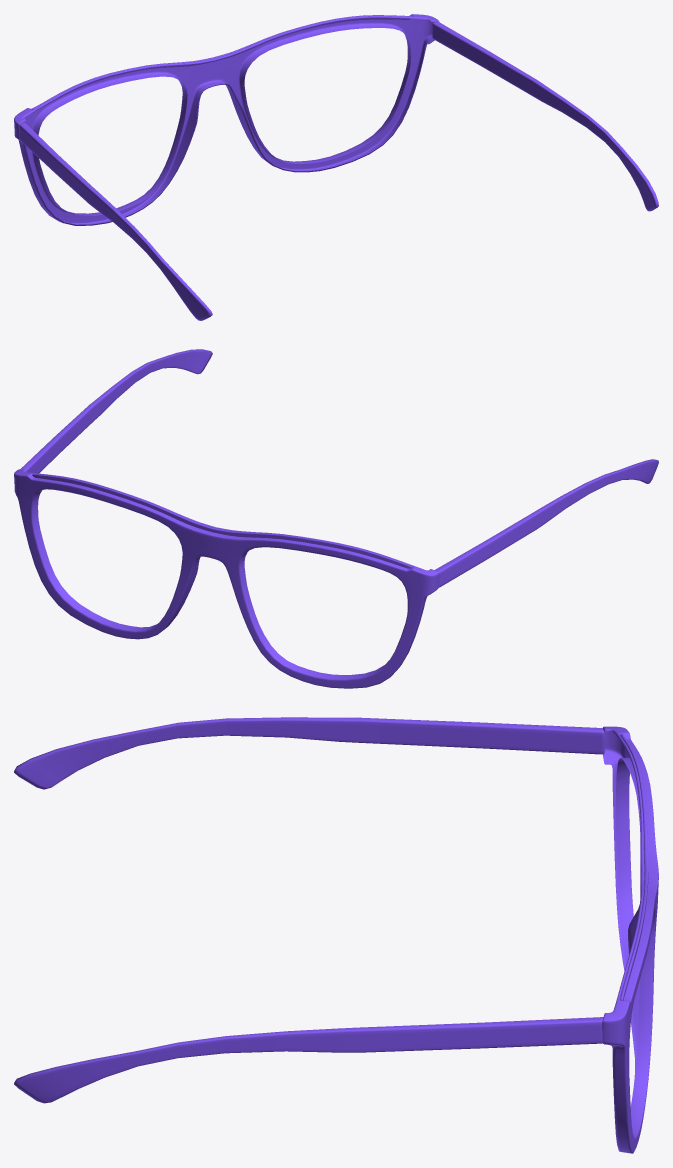
File: sunglass_purple.fbx
The picture shows the model from 3 angles, top to bottom: view 1: azimuth 30°, elevation 25°; view 2: azimuth 150°, elevation 25°; view 3: azimuth 270°, elevation 25°; orthographic projection. The views are drawn at different scales.
Visible parts, largest first — view 1: am_body.001; view 2: am_body.001; view 3: am_body.001.
Part boxes in pixels (bbox=[...]): am_body.001: bbox=[14, 14, 658, 320]; am_body.001: bbox=[14, 349, 658, 688]; am_body.001: bbox=[14, 717, 658, 1153].
Size of the model in its own units: 16.26 by 4.9 by 13.72.
